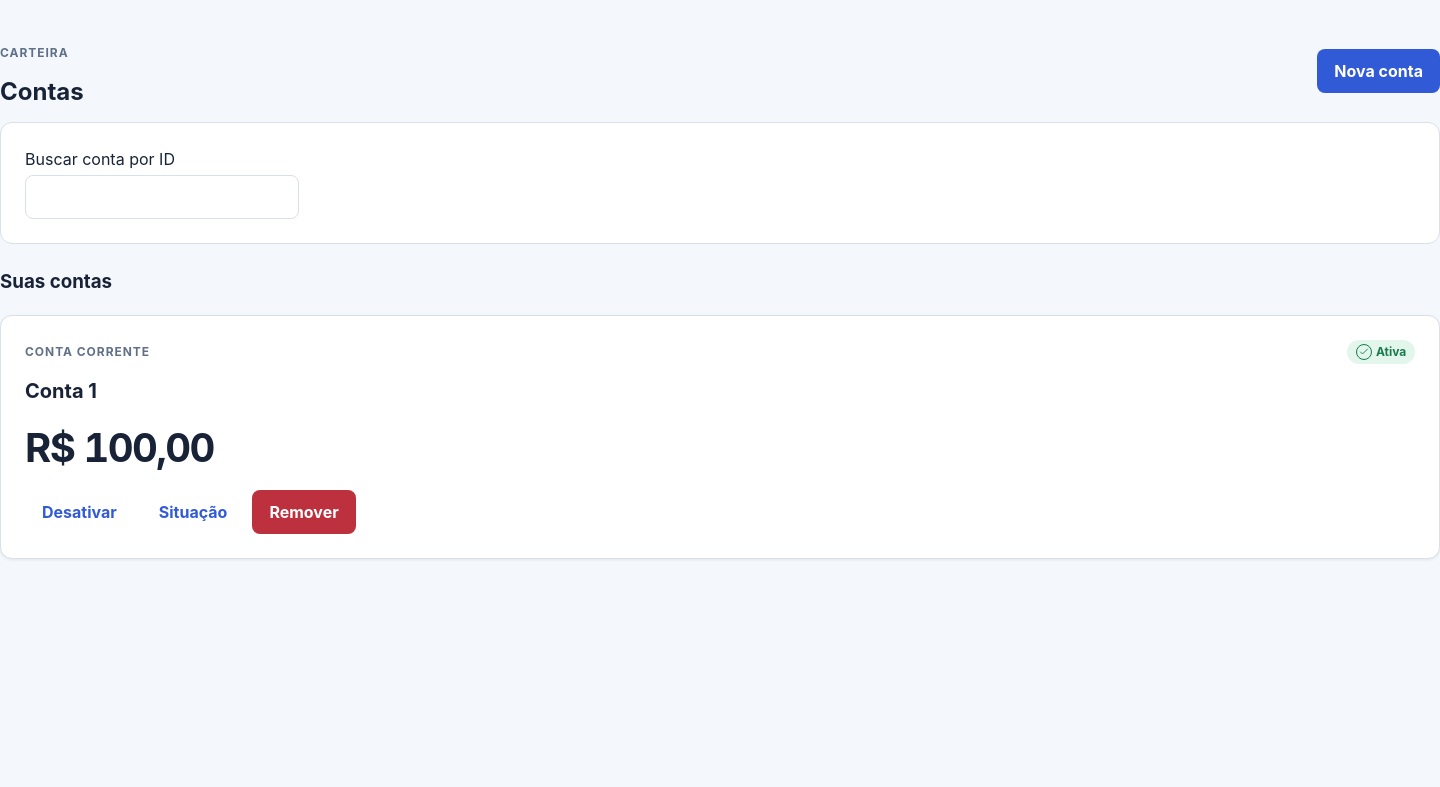
Test: componentes de contas › cadastra conta e envia id e saldo numéricos
Step 1. Click the button "Nova conta" → [1379, 71], box x1=1317 y1=49 x2=1439 y2=93
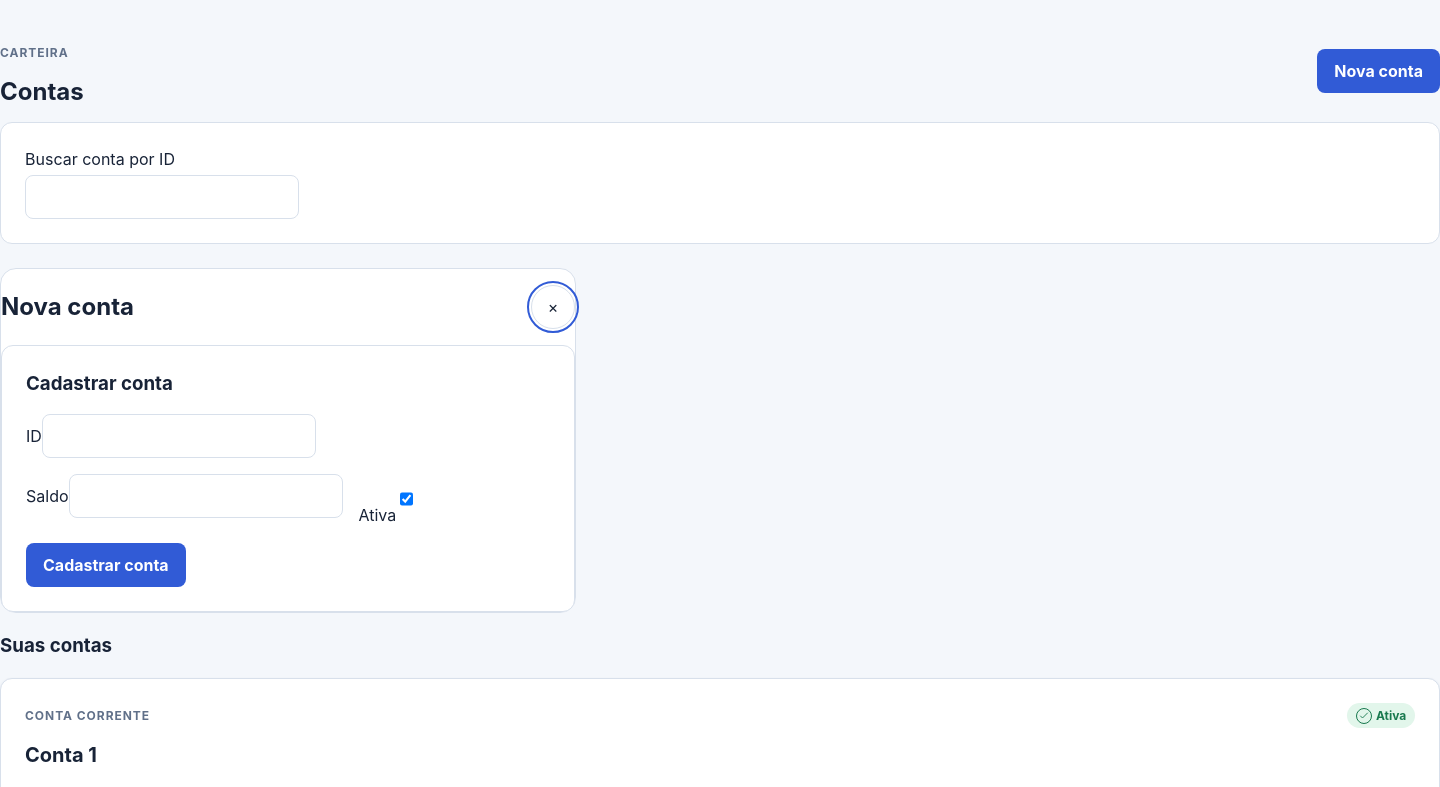
Step 2. Type "2" into the number field named "ID da conta" → [179, 436], box x1=42 y1=414 x2=316 y2=458
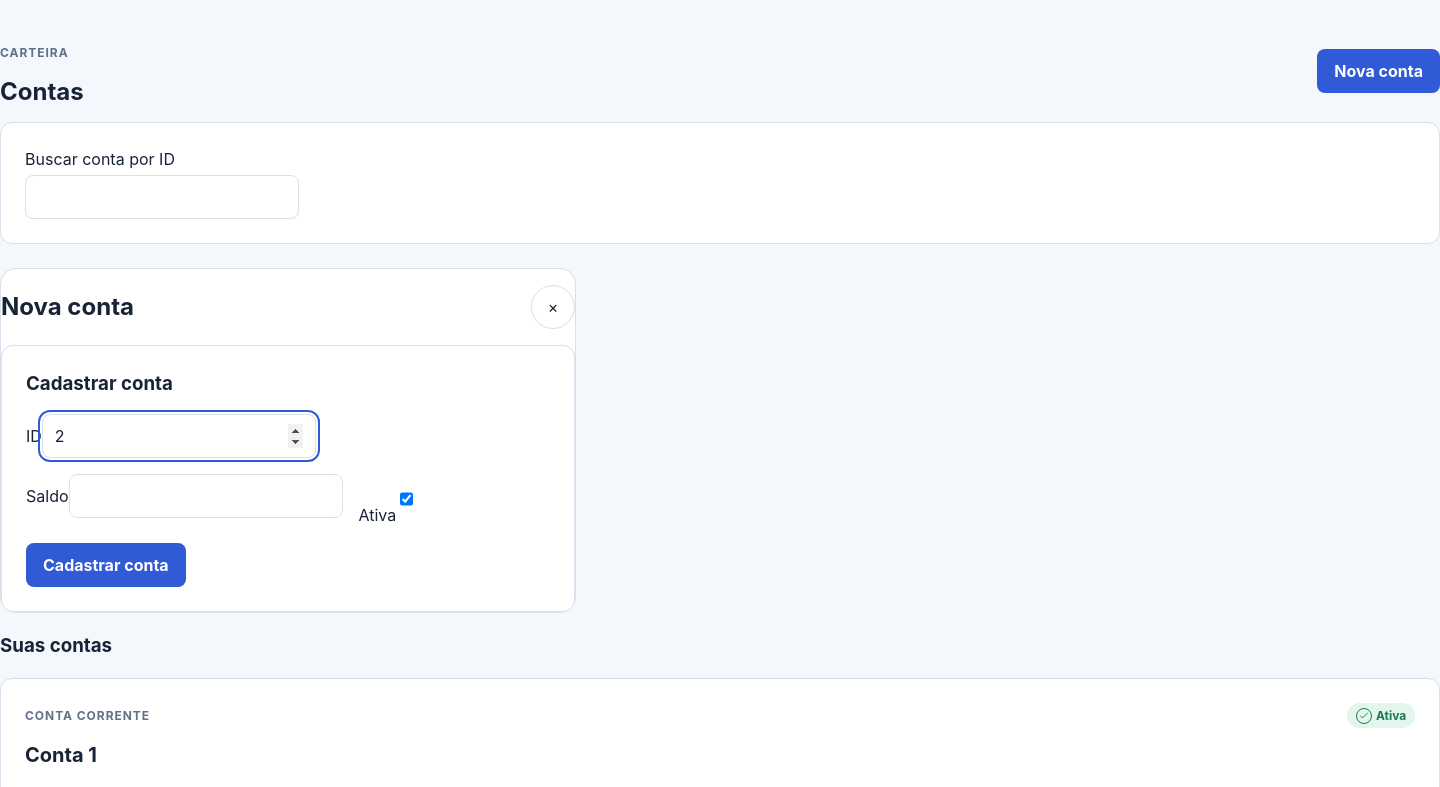
Step 3. Type "50" into the number field labelled "Saldo" → [206, 496], box x1=68 y1=474 x2=342 y2=518
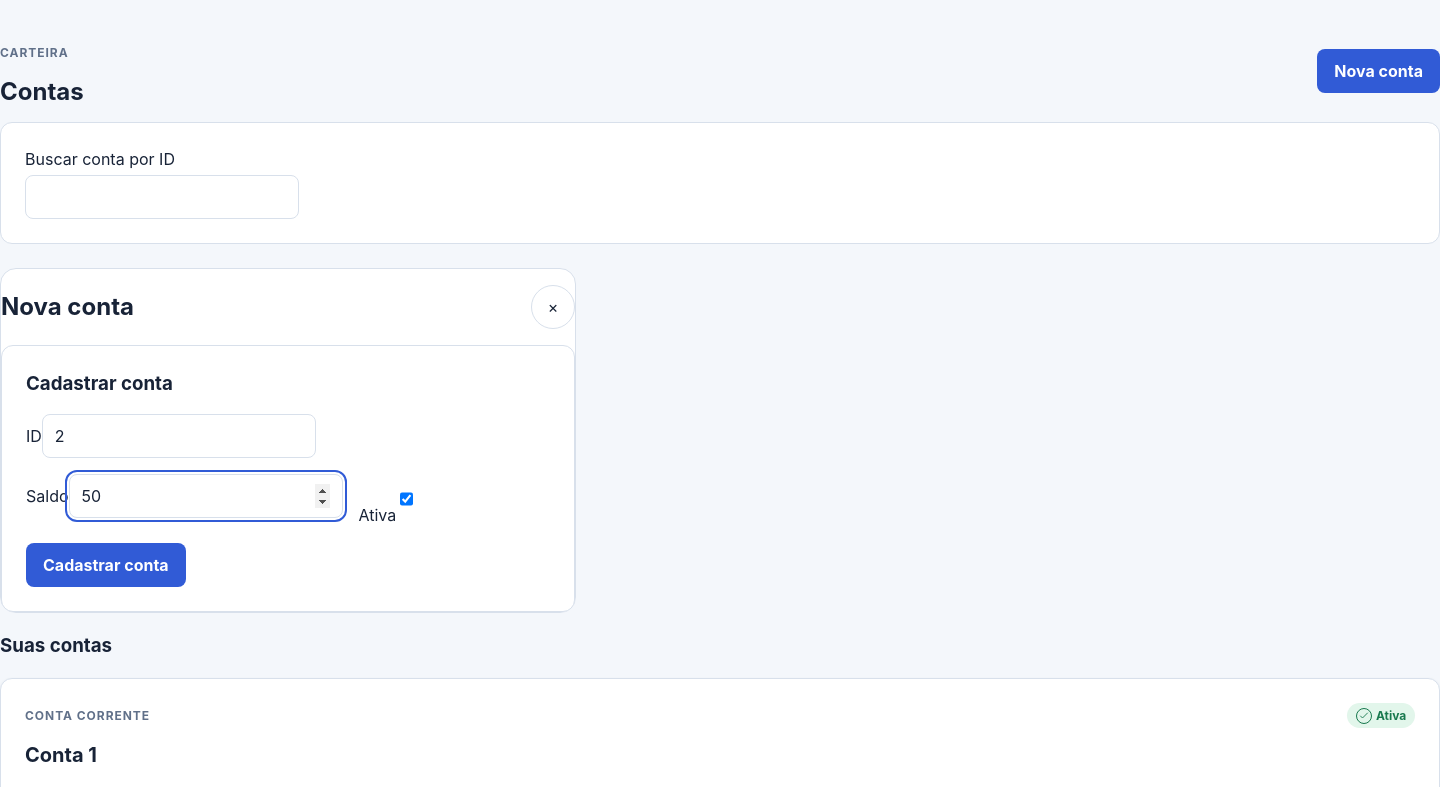
Step 4. Click the button "Cadastrar conta" → [106, 565], box x1=26 y1=543 x2=186 y2=587
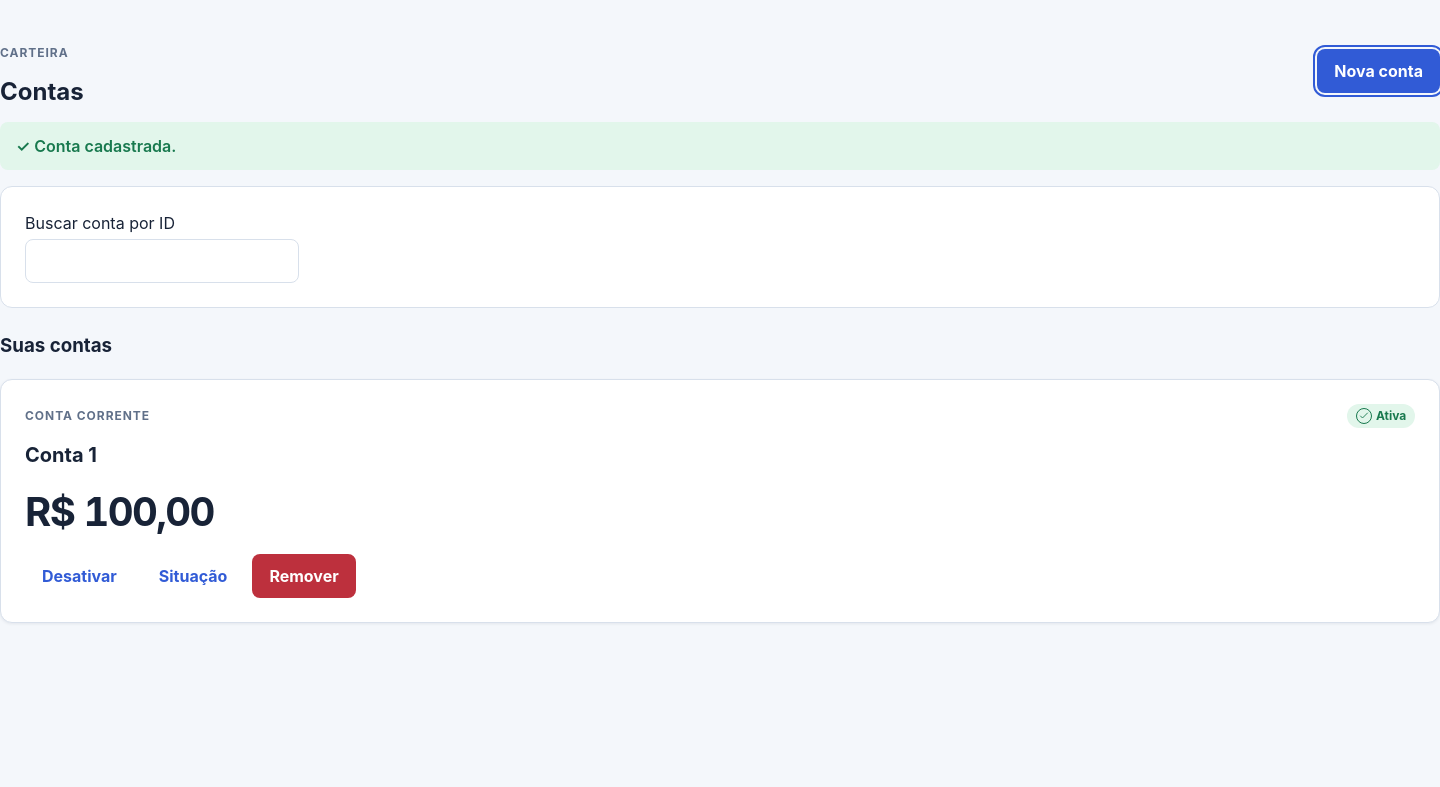
Expected: the message shows "Conta cadastrada", x1=34 y1=136 x2=176 y2=156
